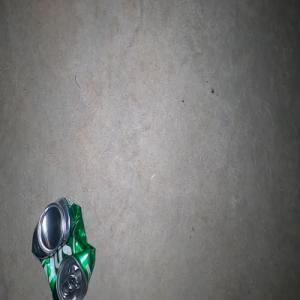SodaCan: (31, 196, 95, 300)
